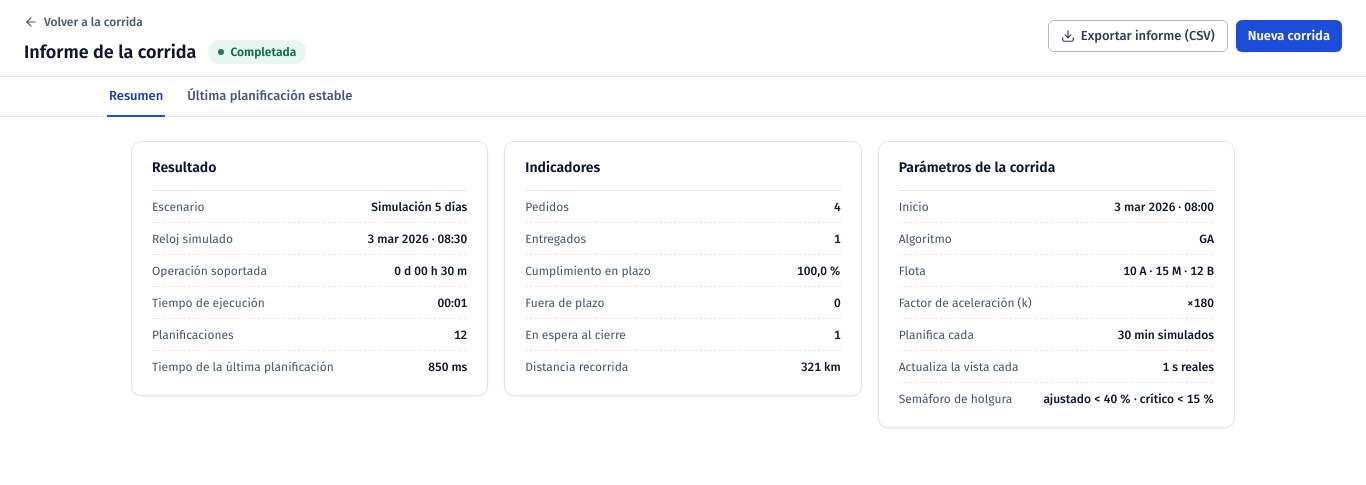
Test: Rúbrica 91.EvaSw · reporte de la última planificación estable › G08 · al terminar la simulación, el informe muestra el plan: una ruta por unidad con sus paradas en orden
What coordinates should you click on to do the following:
click the tab "Última planificación estable"
I would click on:
 (270, 97)
Its box is [185,77,354,117].
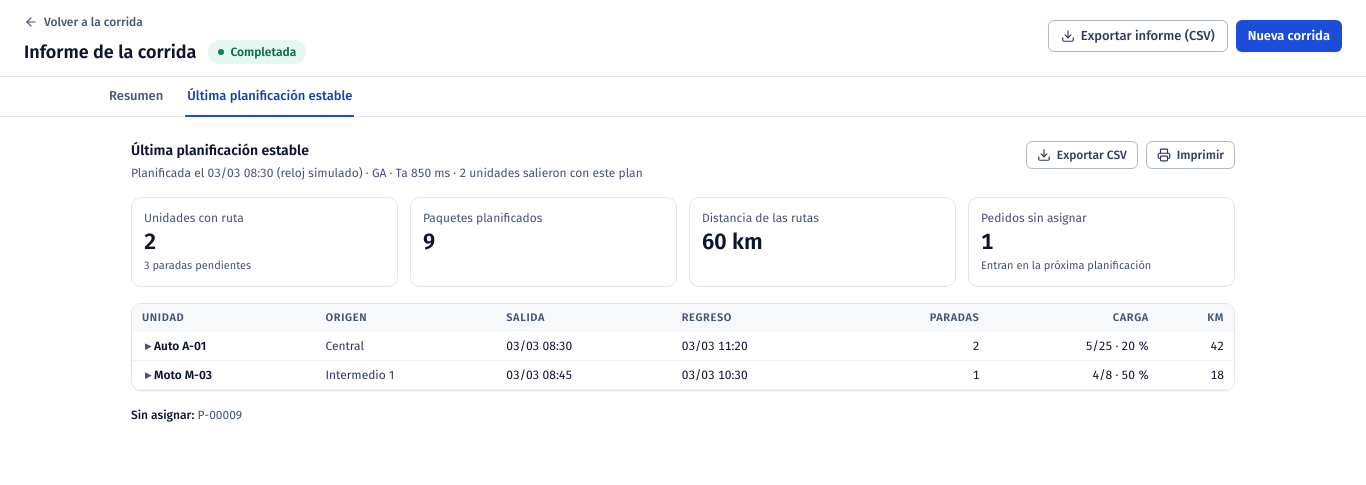
Expected: the row "▸ Auto A-01 Central 03/03 08:30 03/03 11:20 2 5/25 · 20 % 42" is shown, [132,332,1234,360]
Expected: the row that starts with "Moto M-03" reads "▸ Moto M-03 Intermedio 1 03/03 08:45 03/03 10:30 1 4/8 · 50 % 18", [132,360,1234,390]
What coordinates should you click on to do the following:
click the button "▸ Auto A-01"
I would click on:
 (174, 346)
Its box is [142,338,206,354].
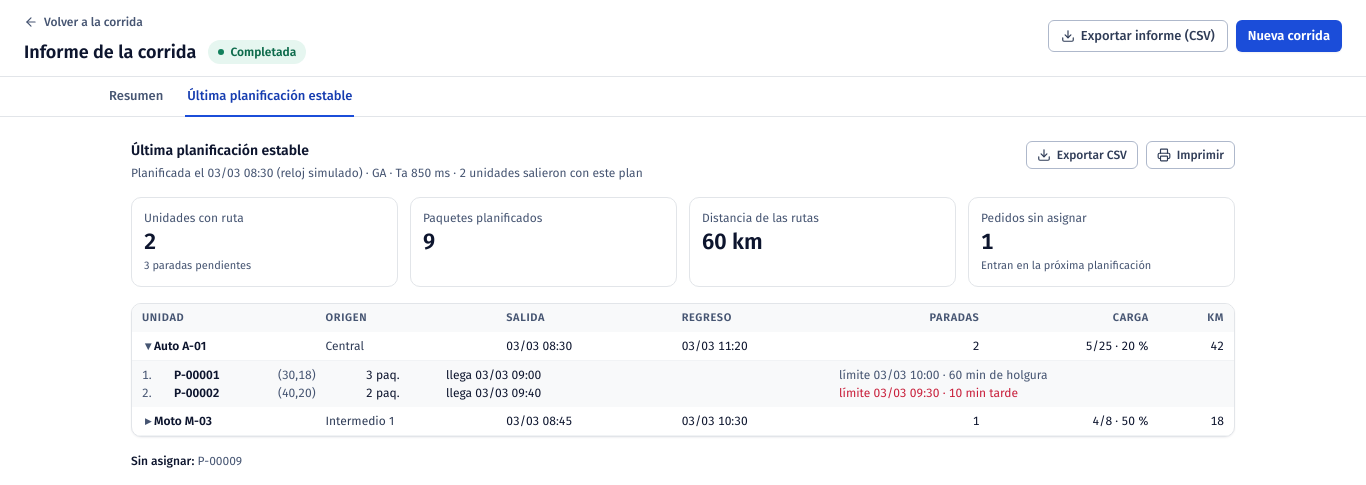
Expected: the text "P-00009" is shown, [198,454,242,468]
Expected: the list item that starts with "P-00002" reads "2. P-00002 (40,20) 2 paq. llega 03/03 09:40 límite 03/03 09:30 · 10 min tarde", [142,386,1018,400]
